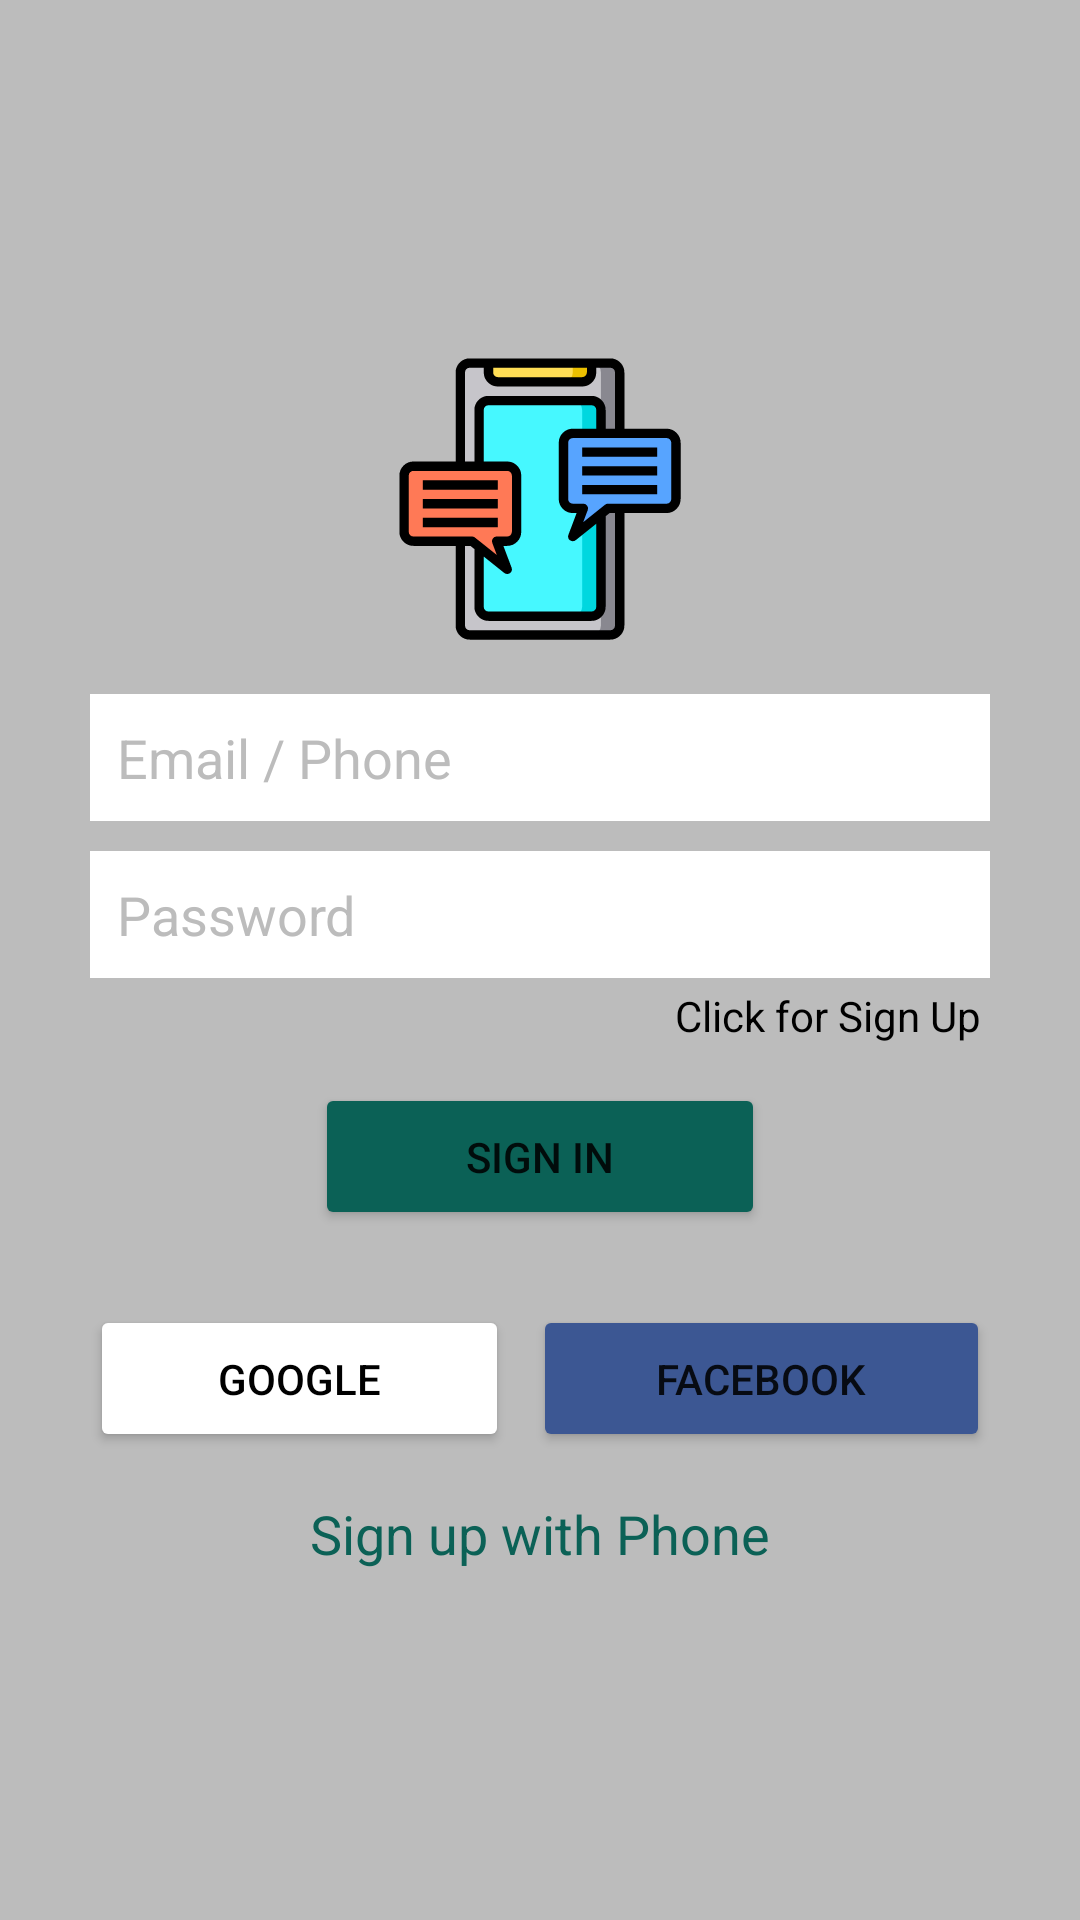

Named icons in this screenshot (1080*1920) and their centers, point (x, y):
chat: point (540, 499)
